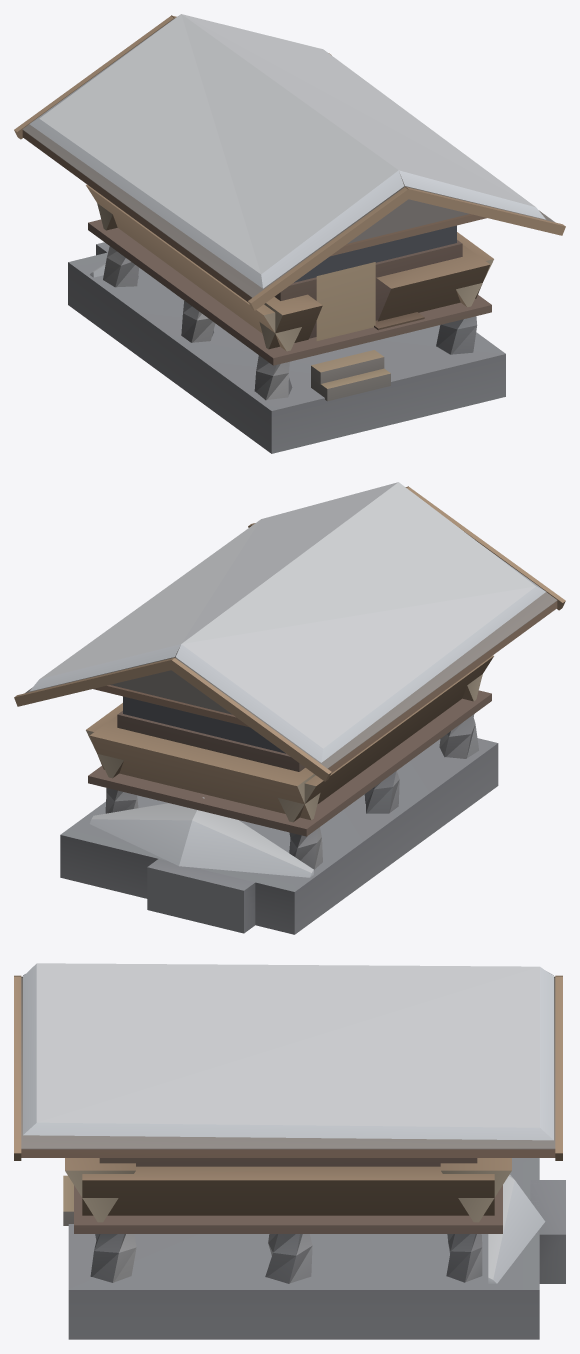
File: barn.lod2.glb
The picture shows the model from 3 angles, top to bottom: view 1: azimuth 30°, elevation 25°; view 2: azimuth 150°, elevation 25°; view 3: azimuth 270°, elevation 25°; orthographic projection. The views are drawn at different scales.
Bounding box in the file's own units: 8 × 6.46 × 10.5.
